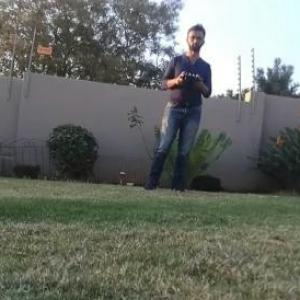follow: (137, 17, 216, 195)
